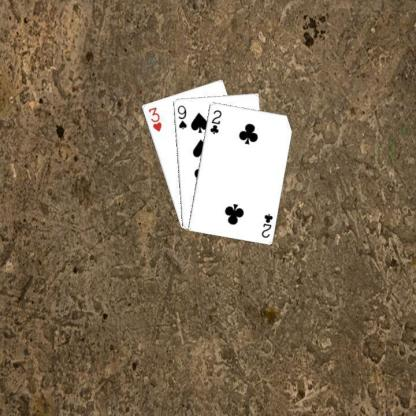2C: (208, 107, 223, 135), (259, 211, 274, 239)
3H: (146, 104, 162, 133)
9S: (174, 102, 188, 131)
